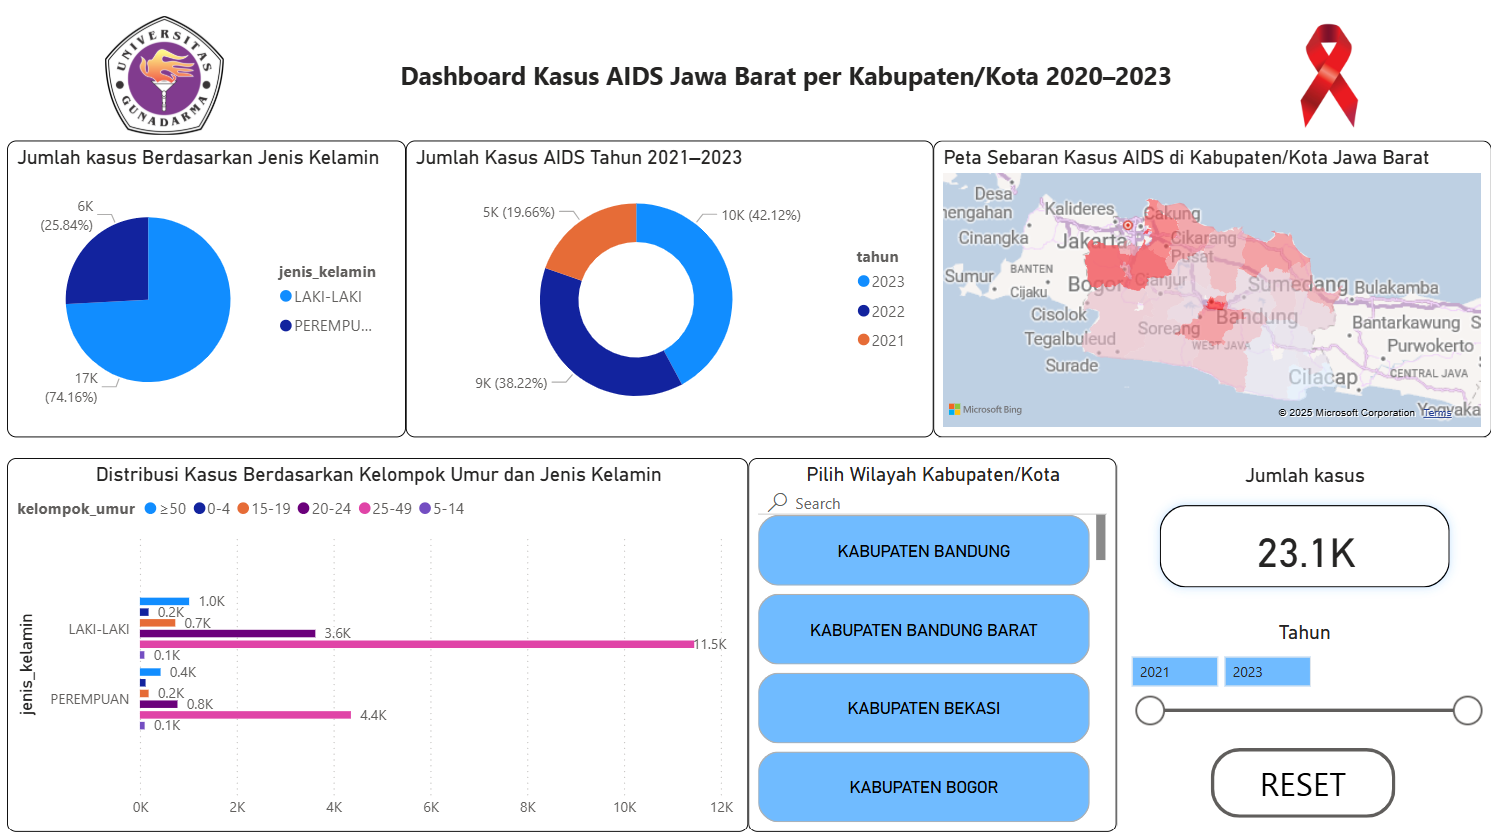

The dashboard page shown, as its layout file describes it:
{"tool":"powerbi","page":{"name":"Page 1","canvas":[1280,720],"ordinal":0},"visuals":[{"type":"pieChart","title":"Jumlah kasus Berdasarkan Jenis Kelamin","fields":{"Category":["data.jenis_kelamin"],"Y":["Sum(data.jumlah_kasus)"]},"box":[0,123.1,343.8,255.8],"z":0},{"type":"donutChart","title":"Jumlah Kasus AIDS Tahun 2021–2023","fields":{"Category":["data.tahun"],"Y":["Sum(data.jumlah_kasus)"]},"box":[343.8,123.1,454.8,255.8],"z":1000},{"type":"cardVisual","title":"Jumlah kasus","fields":{"Data":["Sum(data.jumlah_kasus)"]},"box":[957.9,396.9,322.1,127.9],"z":2000},{"type":"slicer","title":"Tahun","fields":{"Values":["data.tahun"]},"box":[956.7,536.9,323.3,109.8],"z":3000},{"type":"clusteredBarChart","title":"Distribusi Kasus Berdasarkan Kelompok Umur dan Jenis Kelamin","fields":{"Series":["data.kelompok_umur"],"Y":["Sum(data.jumlah_kasus)"],"Category":["data.jenis_kelamin"]},"box":[0,396.9,639.4,323.3],"z":4000},{"type":"filledMap","title":"Peta Sebaran Kasus AIDS di Kabupaten/Kota Jawa Barat","fields":{"Category":["data.nama_kabupaten_kota"],"X":["Sum(data.jumlah_kasus)"]},"box":[798.7,123.1,481.4,255.8],"z":5000},{"type":"textbox","box":[319.7,47.1,703.4,48.3],"z":6000},{"type":"actionButton","box":[1037.5,646.7,159.3,60.3],"z":7000},{"type":"advancedSlicerVisual","title":"Pilih Wilayah Kabupaten/Kota","fields":{"Values":["data.nama_kabupaten_kota"]},"box":[639.4,396.9,317.3,323.3],"z":8000},{"type":"image","box":[79.6,10.9,112.2,112.2],"z":9000},{"type":"image","box":[1082.2,10.9,115.8,112.2],"z":10000}]}

Visuals, with their boxes in screenshot pixels (x1, y1, x2, y2), scaled from the page's 1280x720 canvas onto the 1498x832 screenshot:
"Jumlah kasus Berdasarkan Jenis Kelamin" pieChart: (x1=0, y1=142, x2=402, y2=438)
"Jumlah Kasus AIDS Tahun 2021–2023" donutChart: (x1=402, y1=142, x2=935, y2=438)
"Jumlah kasus" cardVisual: (x1=1121, y1=459, x2=1497, y2=606)
"Tahun" slicer: (x1=1120, y1=620, x2=1497, y2=747)
"Distribusi Kasus Berdasarkan Kelompok Umur dan Jenis Kelamin" clusteredBarChart: (x1=0, y1=459, x2=748, y2=831)
"Peta Sebaran Kasus AIDS di Kabupaten/Kota Jawa Barat" filledMap: (x1=935, y1=142, x2=1497, y2=438)
textbox: (x1=374, y1=54, x2=1197, y2=110)
actionButton: (x1=1214, y1=747, x2=1401, y2=817)
"Pilih Wilayah Kabupaten/Kota" advancedSlicerVisual: (x1=748, y1=459, x2=1120, y2=831)
image: (x1=93, y1=13, x2=224, y2=142)
image: (x1=1267, y1=13, x2=1402, y2=142)
